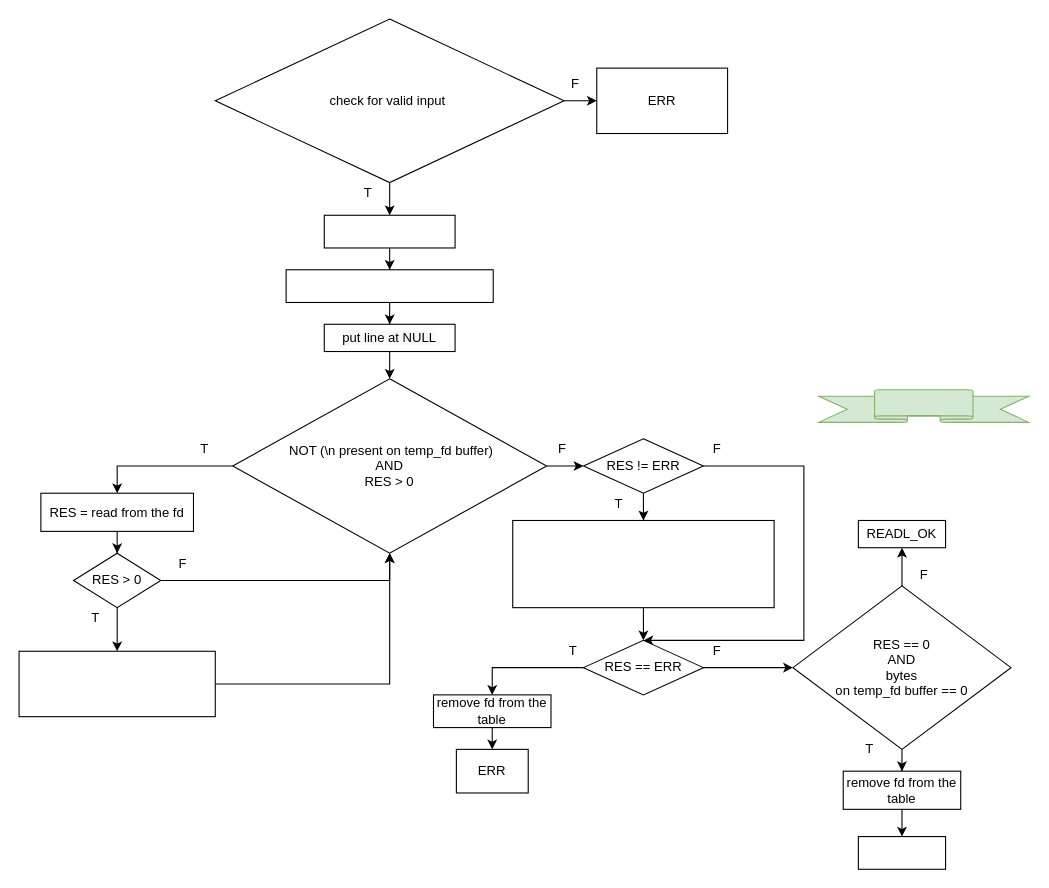
This 1049x888 diagram has some shape labels left out. Here are the shapes that lost their labels. From the top down, the centre of each, then its label:
the point at 389,231: RES = READL_OK
the point at 389,285: temp_fd = the corresponding fd
the point at 923,405: need to do some optimizations here
the point at 643,563: RES = move the bytes before \n or all the bytes of the temp_fd buffer to line
the point at 116,683: RES = move the buffer on temp_fd buffer
the point at 901,852: EOF_RCHD
